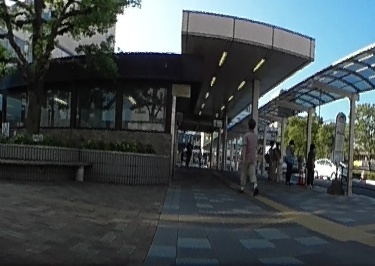person: (235, 117, 262, 193), (304, 140, 319, 187), (283, 136, 296, 185), (264, 141, 274, 184), (273, 139, 283, 181), (185, 139, 193, 163)
